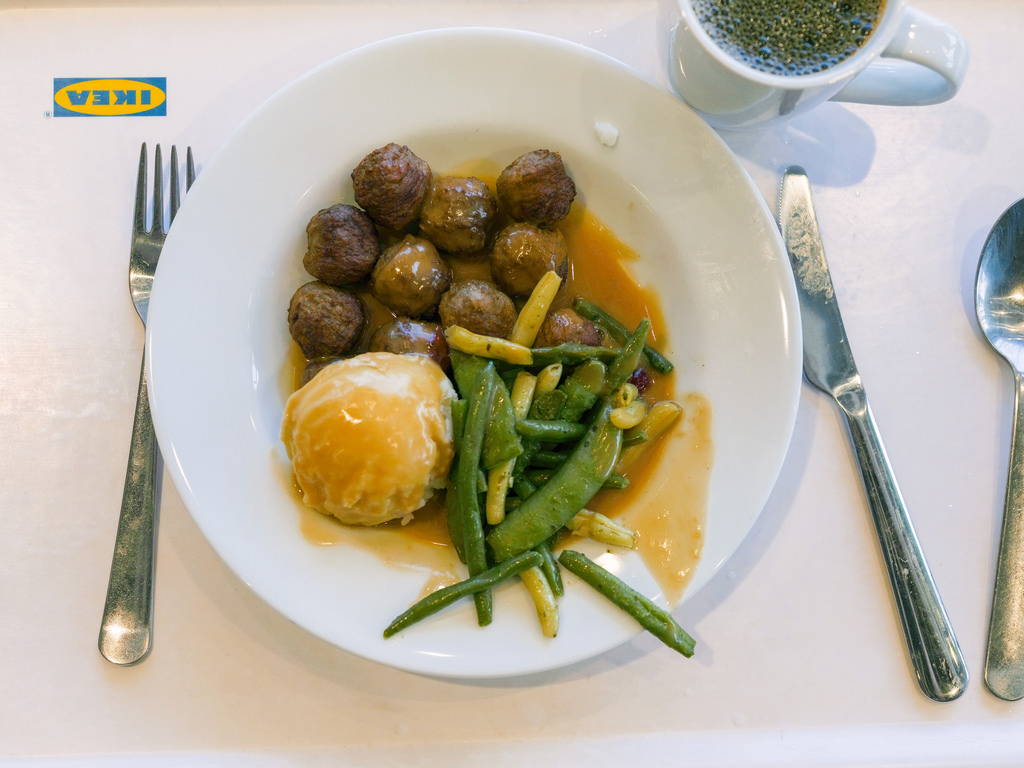boiled potatoes: (299, 363, 447, 517)
meatballs: (368, 163, 563, 281), (291, 276, 445, 345), (306, 199, 381, 279)
